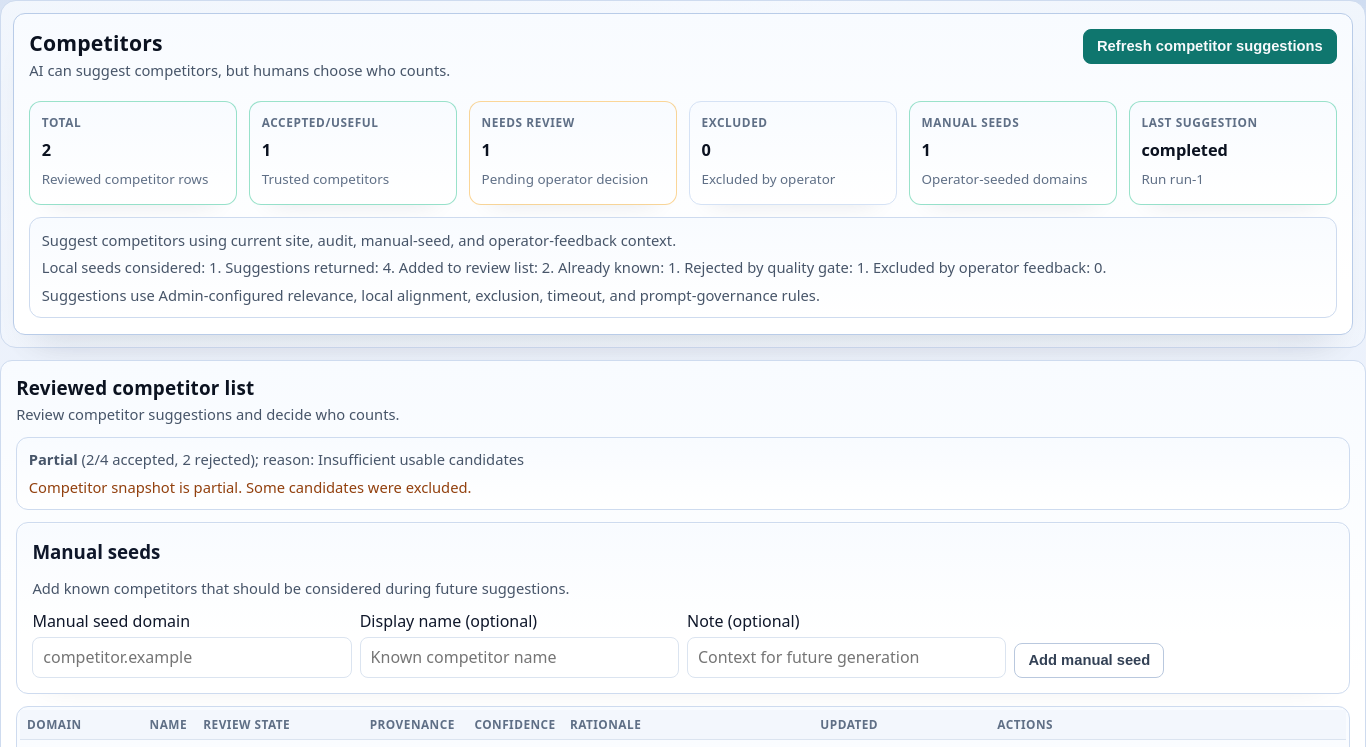
Test: competitors page list-first workflow › submits manual seed and refreshes the reviewed list
Expected: the form with test id "competitors-manual-seed-form" is shown, [32,610,1334,678]
Type "seeded.example" into the field with test id "competitors-manual-seed-domain-input" at {"x": 192, "y": 658}, box [32,638,352,678]
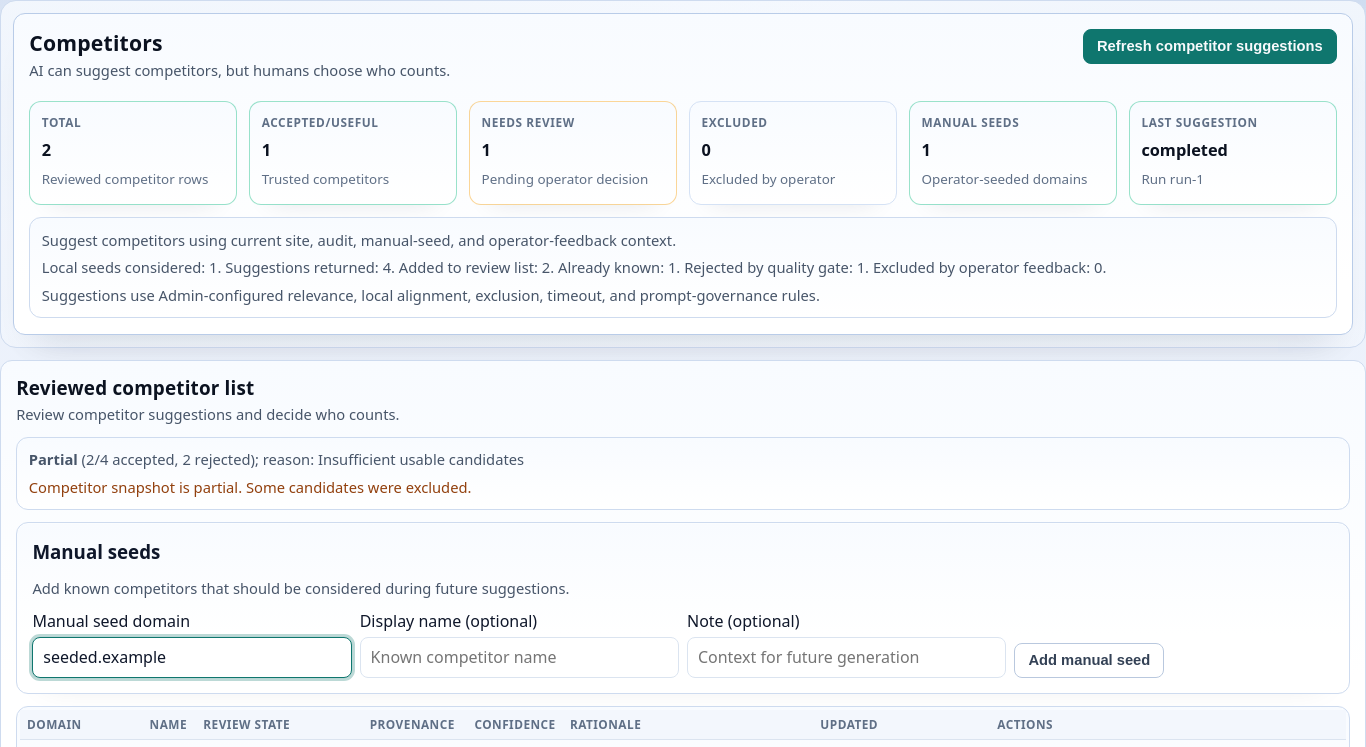
Type "Seeded Competitor" into the field with test id "competitors-manual-seed-display-name-input" at {"x": 519, "y": 658}, box [360,638,679,678]
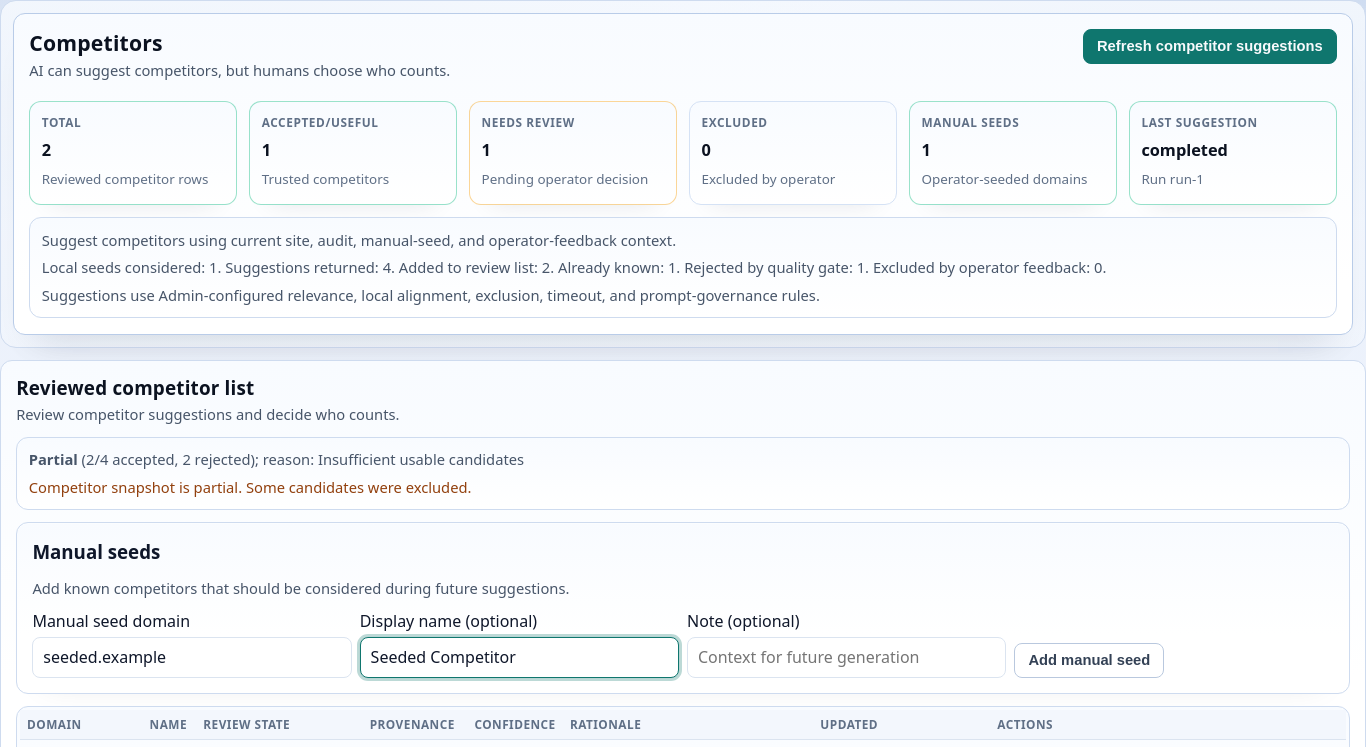
Click the button with test id "competitors-manual-seed-submit" at {"x": 1089, "y": 660}, box [1014,643,1164,678]
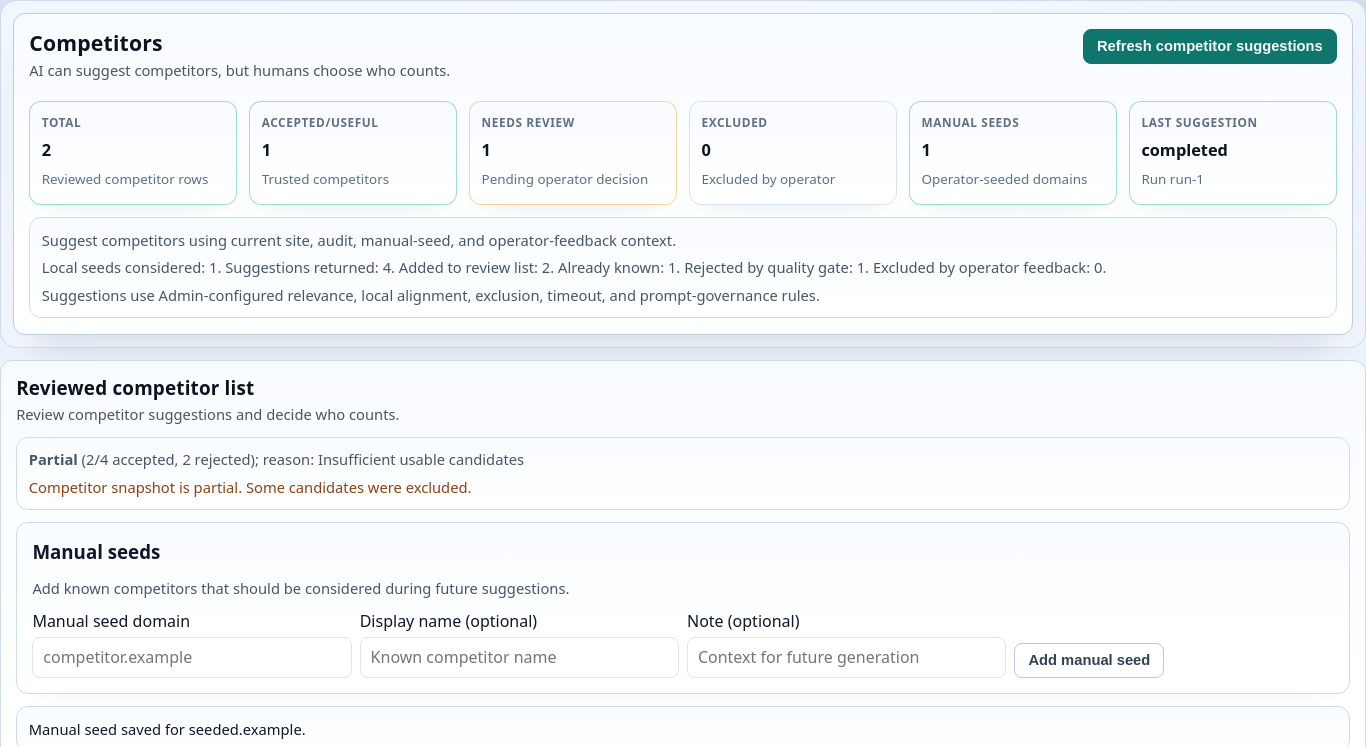
Expected: the text with test id "competitors-feedback-success" reads "Manual seed saved for seeded.example.", [29,719,306,739]
